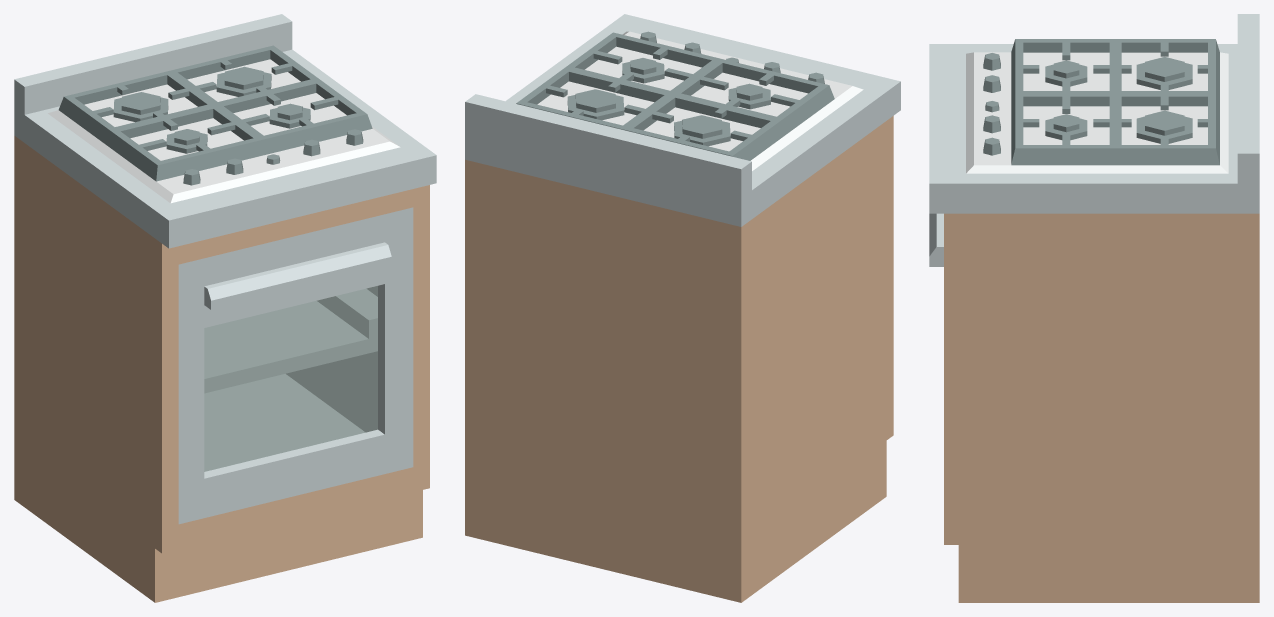
Rendered from range.glb.
The picture shows the model from 3 angles, left to right: view 1: azimuth 30°, elevation 25°; view 2: azimuth 150°, elevation 25°; view 3: azimuth 270°, elevation 25°; orthographic projection. The views are drawn at different scales.
Visible parts, largest first — view 1: kitchenStove(Clone), door; view 2: kitchenStove(Clone); view 3: kitchenStove(Clone).
Boxes of the visible parts, x1=… form: kitchenStove(Clone): x1=14, y1=14, x2=436, y2=602; door: x1=204, y1=286, x2=377, y2=471; kitchenStove(Clone): x1=465, y1=14, x2=900, y2=602; kitchenStove(Clone): x1=929, y1=14, x2=1259, y2=602.
Bounding box in the file's own units: 0.6 × 0.9 × 0.6.
Materials: 2 (2 with a texture image).
